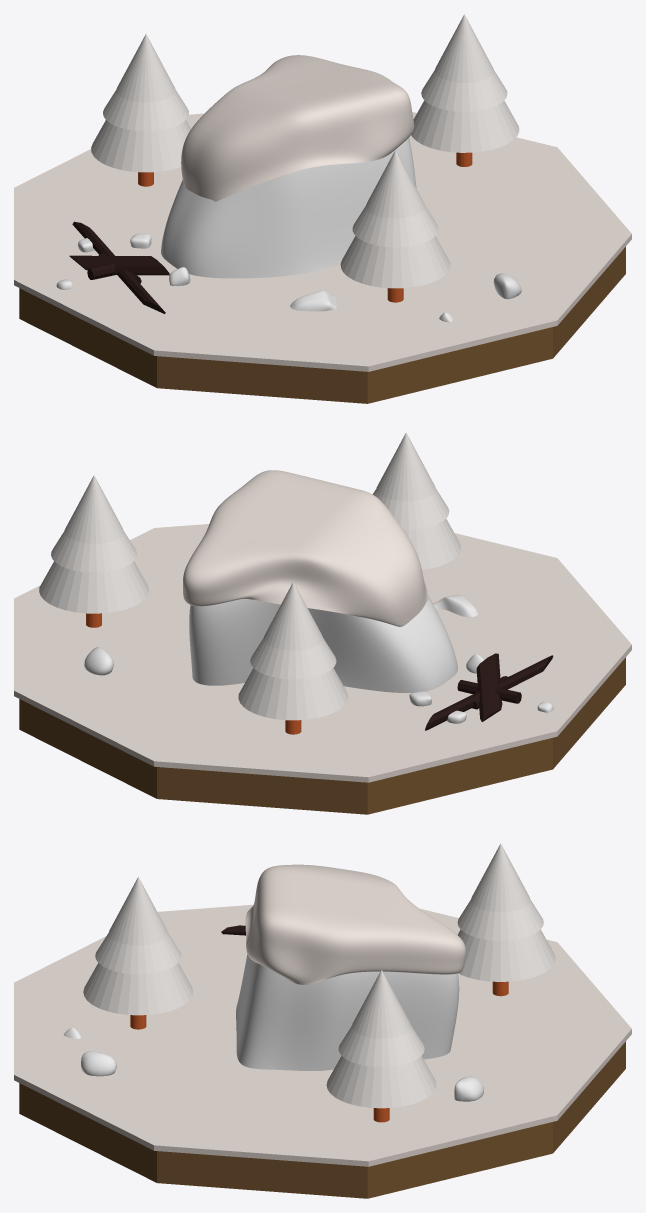
File: ile_moyenne_neige_1.fbx
3 renders of one model, top to bottom at view 1: azimuth 30°, elevation 25°; view 2: azimuth 150°, elevation 25°; view 3: azimuth 270°, elevation 25°, orthographic.
Parts seen in each view (by area): view 1: herbe, MEGA CAILLOU.001, terre, MEGA CAILLOU, Sapin, Sapin.002, Sapin.003, Cylinder.002, Cylinder.003, pierre.003; view 2: herbe, MEGA CAILLOU.001, terre, MEGA CAILLOU, Sapin.003, Sapin.002, Sapin, Cylinder.002, Cylinder.003, pierre.003, pierre.002, Cylinder.001; view 3: herbe, MEGA CAILLOU.001, terre, MEGA CAILLOU, Sapin, Sapin.002, Sapin.003, pierre, pierre.002.
Boxes of the visible parts, x1,y1,x2,y2 form: herbe: (14, 112, 631, 371); MEGA CAILLOU.001: (181, 55, 414, 201); terre: (19, 246, 625, 403); MEGA CAILLOU: (161, 138, 416, 278); Sapin: (340, 150, 450, 288); Sapin.002: (411, 14, 519, 152); Sapin.003: (91, 34, 190, 172); Cylinder.002: (69, 255, 169, 275); Cylinder.003: (72, 221, 165, 313); pierre.003: (290, 291, 336, 311); herbe: (14, 524, 631, 782); MEGA CAILLOU.001: (183, 470, 428, 626); terre: (19, 657, 625, 814); MEGA CAILLOU: (189, 594, 457, 693); Sapin.003: (238, 582, 348, 720); Sapin.002: (39, 475, 148, 613); Sapin: (372, 432, 460, 569); Cylinder.002: (476, 653, 502, 721); Cylinder.003: (425, 655, 553, 730); pierre.003: (433, 594, 478, 617); pierre.002: (84, 647, 113, 675); Cylinder.001: (457, 680, 521, 703); herbe: (14, 904, 631, 1166); MEGA CAILLOU.001: (245, 864, 465, 984); terre: (19, 1041, 625, 1198); MEGA CAILLOU: (236, 954, 459, 1070); Sapin: (83, 877, 193, 1015); Sapin.002: (326, 970, 436, 1108); Sapin.003: (457, 843, 555, 981); pierre: (81, 1051, 116, 1076); pierre.002: (454, 1076, 483, 1101).
Bounding box in the file's own units: 3189 × 1063 × 3141.
